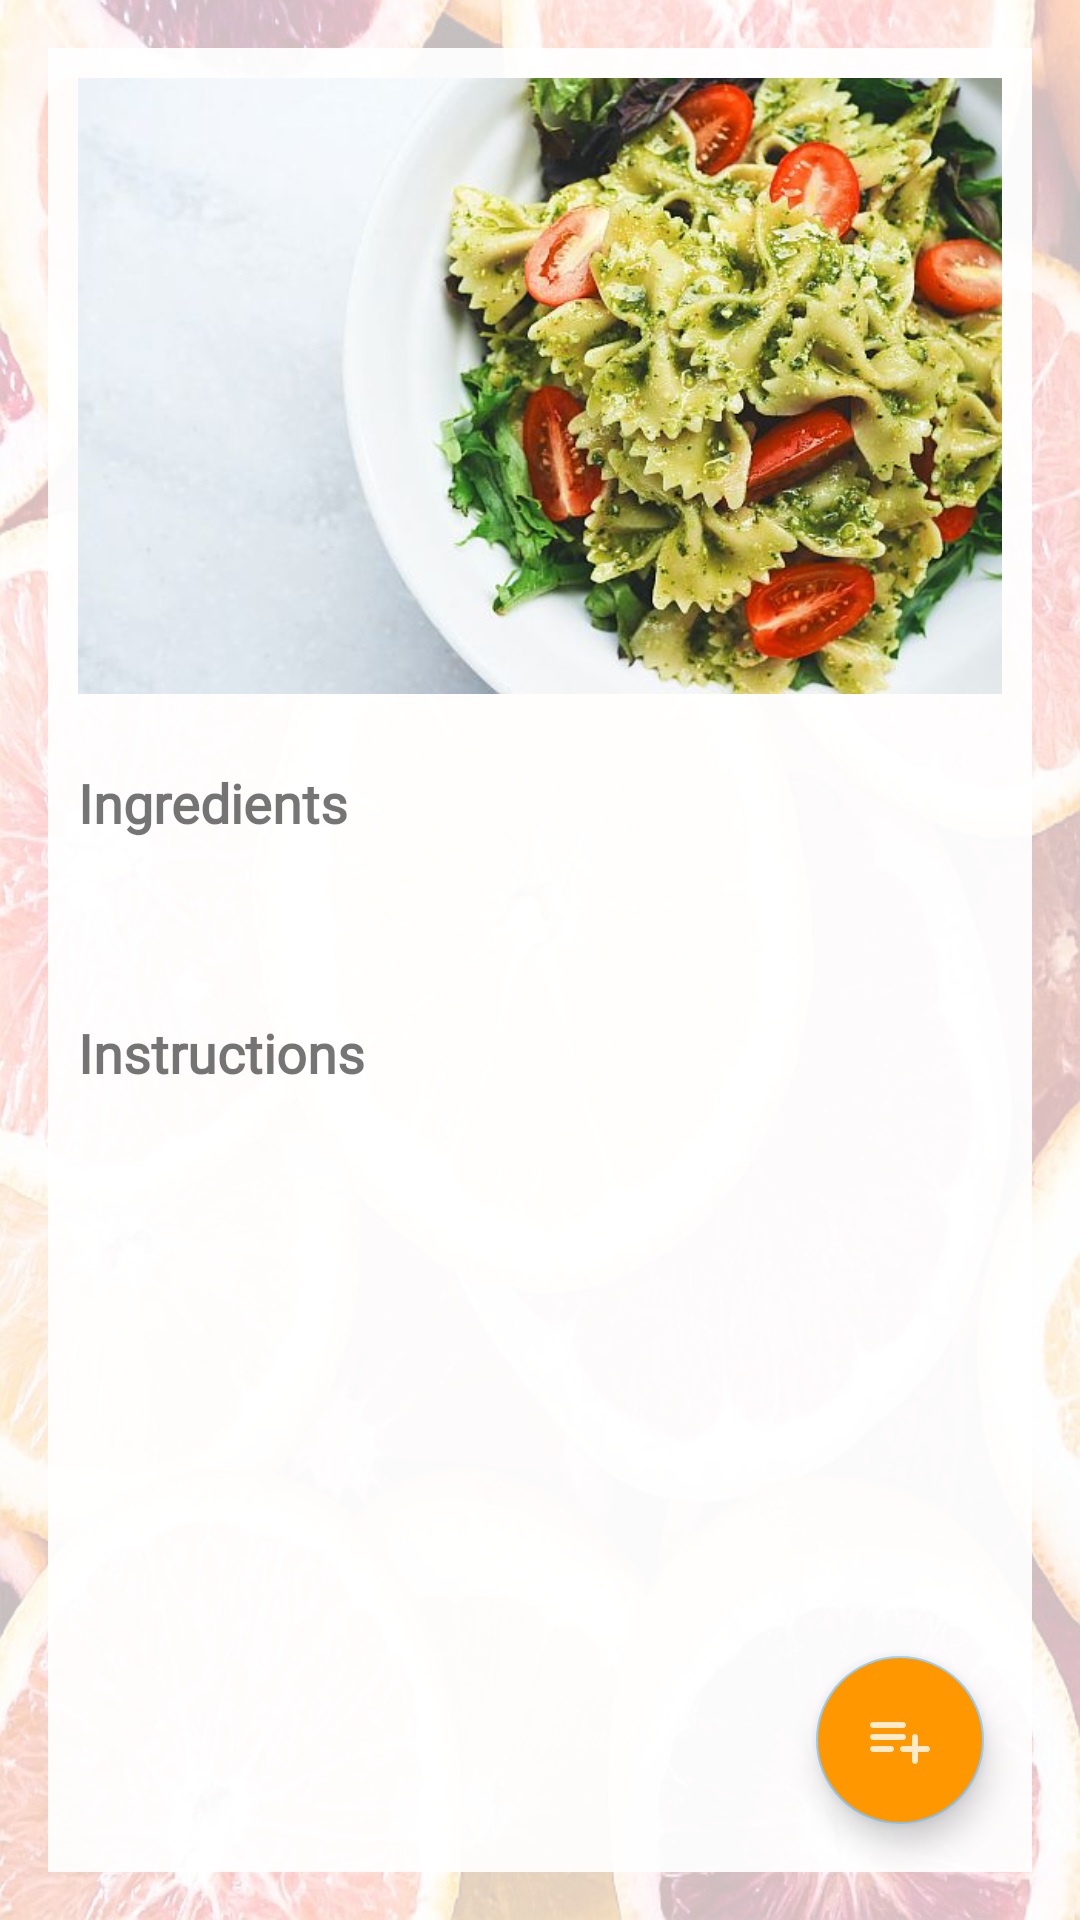

Named icons in this screenshot (1080x1920) and their centers, (x,y):
add list: (900,1740)
